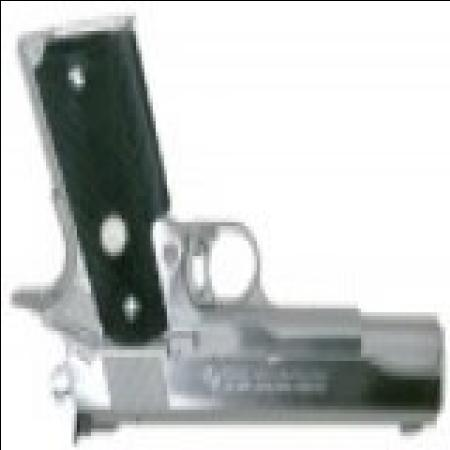Pistol: (6, 26, 438, 446)
